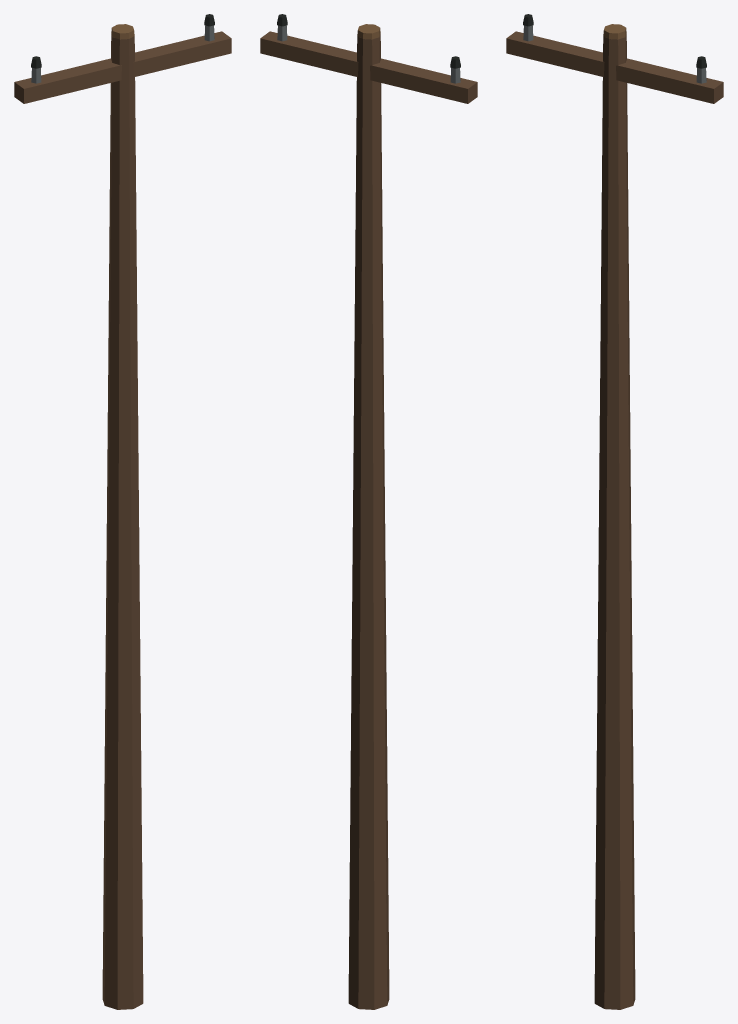
Rendered from pole.glb.
The picture shows the model from 3 angles, left to right: view 1: azimuth 30°, elevation 25°; view 2: azimuth 150°, elevation 25°; view 3: azimuth 330°, elevation 25°; orthographic projection.
Parts seen in each view (by area): view 1: pole; view 2: pole; view 3: pole.
Boxes of the visible parts, x1,y1,x2,y2 form: pole: (14, 14, 231, 1009); pole: (260, 14, 477, 1009); pole: (506, 14, 723, 1009).
Bounding box in the file's own units: 1.87 × 8.37 × 0.33.
